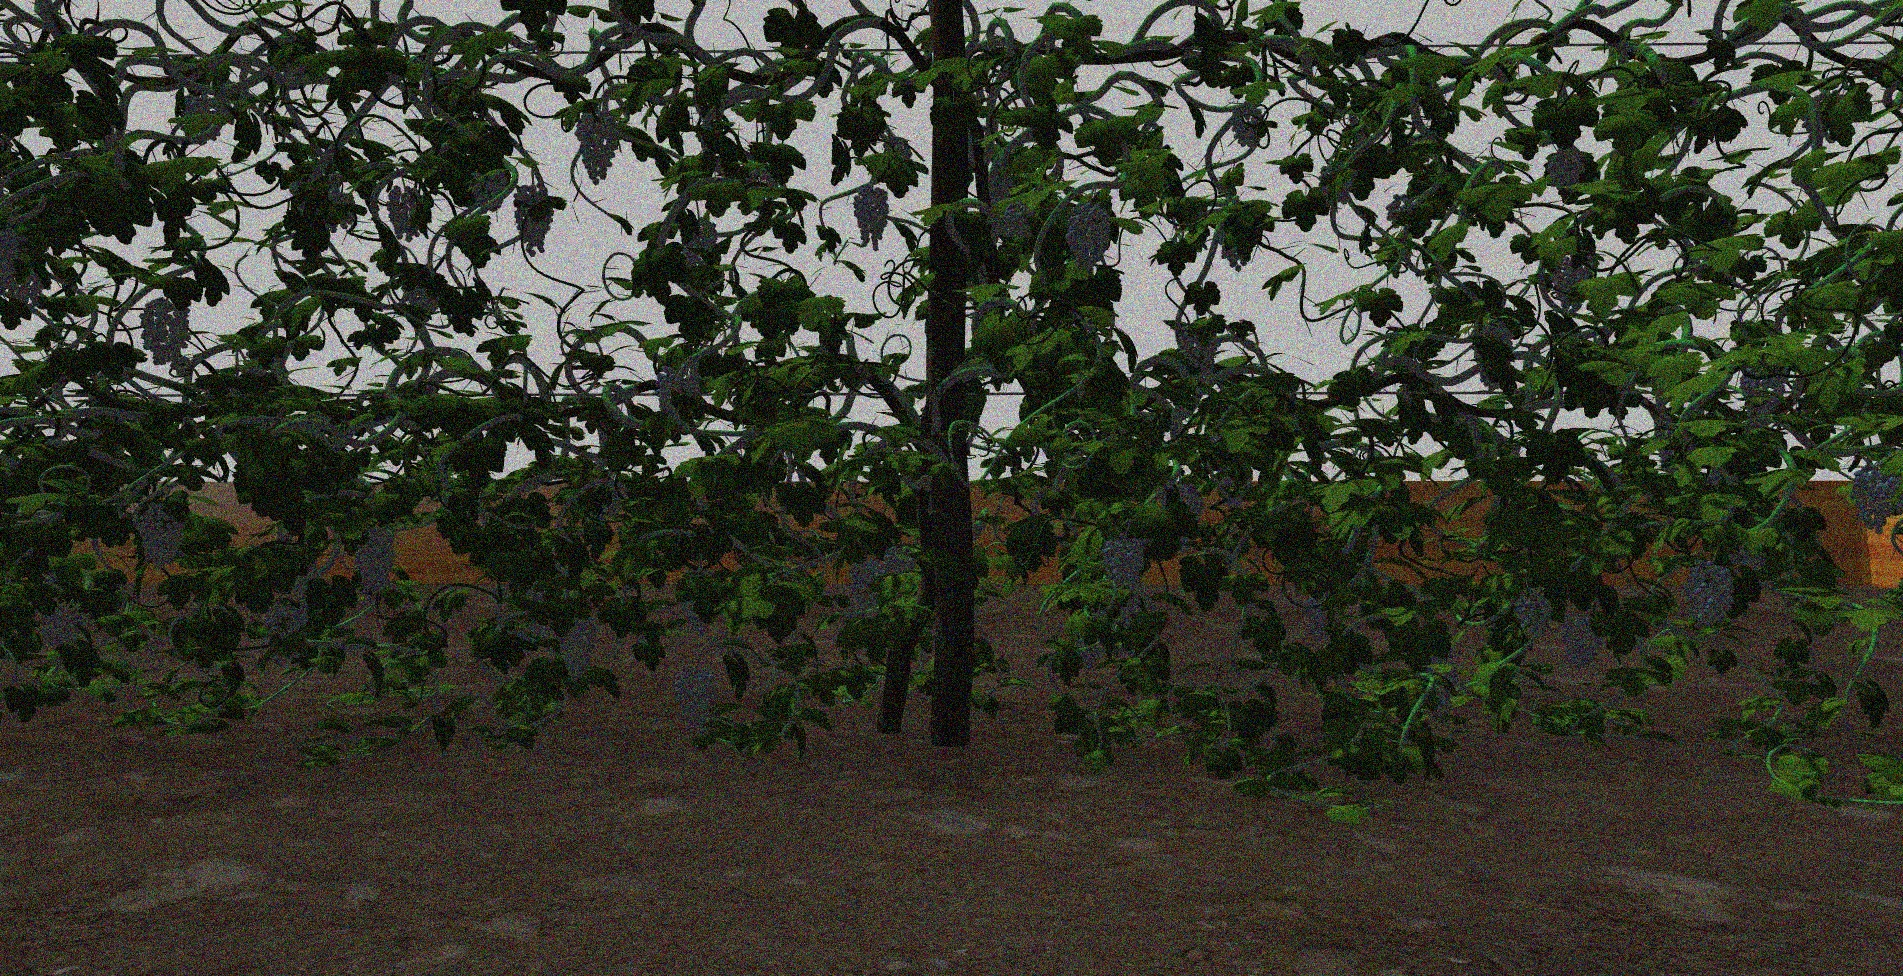grape: (1101, 533, 1148, 624), (136, 300, 192, 367), (1681, 559, 1736, 627), (656, 357, 703, 433), (1849, 466, 1902, 532), (512, 182, 556, 258), (353, 523, 398, 599), (137, 498, 185, 568), (575, 110, 619, 187), (1067, 200, 1111, 273), (1, 232, 44, 306), (264, 604, 307, 669), (558, 615, 599, 683), (676, 664, 717, 732), (1559, 612, 1606, 671), (36, 598, 90, 647), (853, 184, 891, 253), (1740, 365, 1788, 413), (385, 185, 424, 242), (1513, 588, 1552, 640), (1306, 593, 1343, 641), (848, 556, 880, 609), (470, 171, 512, 212), (1548, 144, 1584, 185), (877, 543, 914, 580), (1002, 200, 1036, 240), (1232, 110, 1267, 146)
